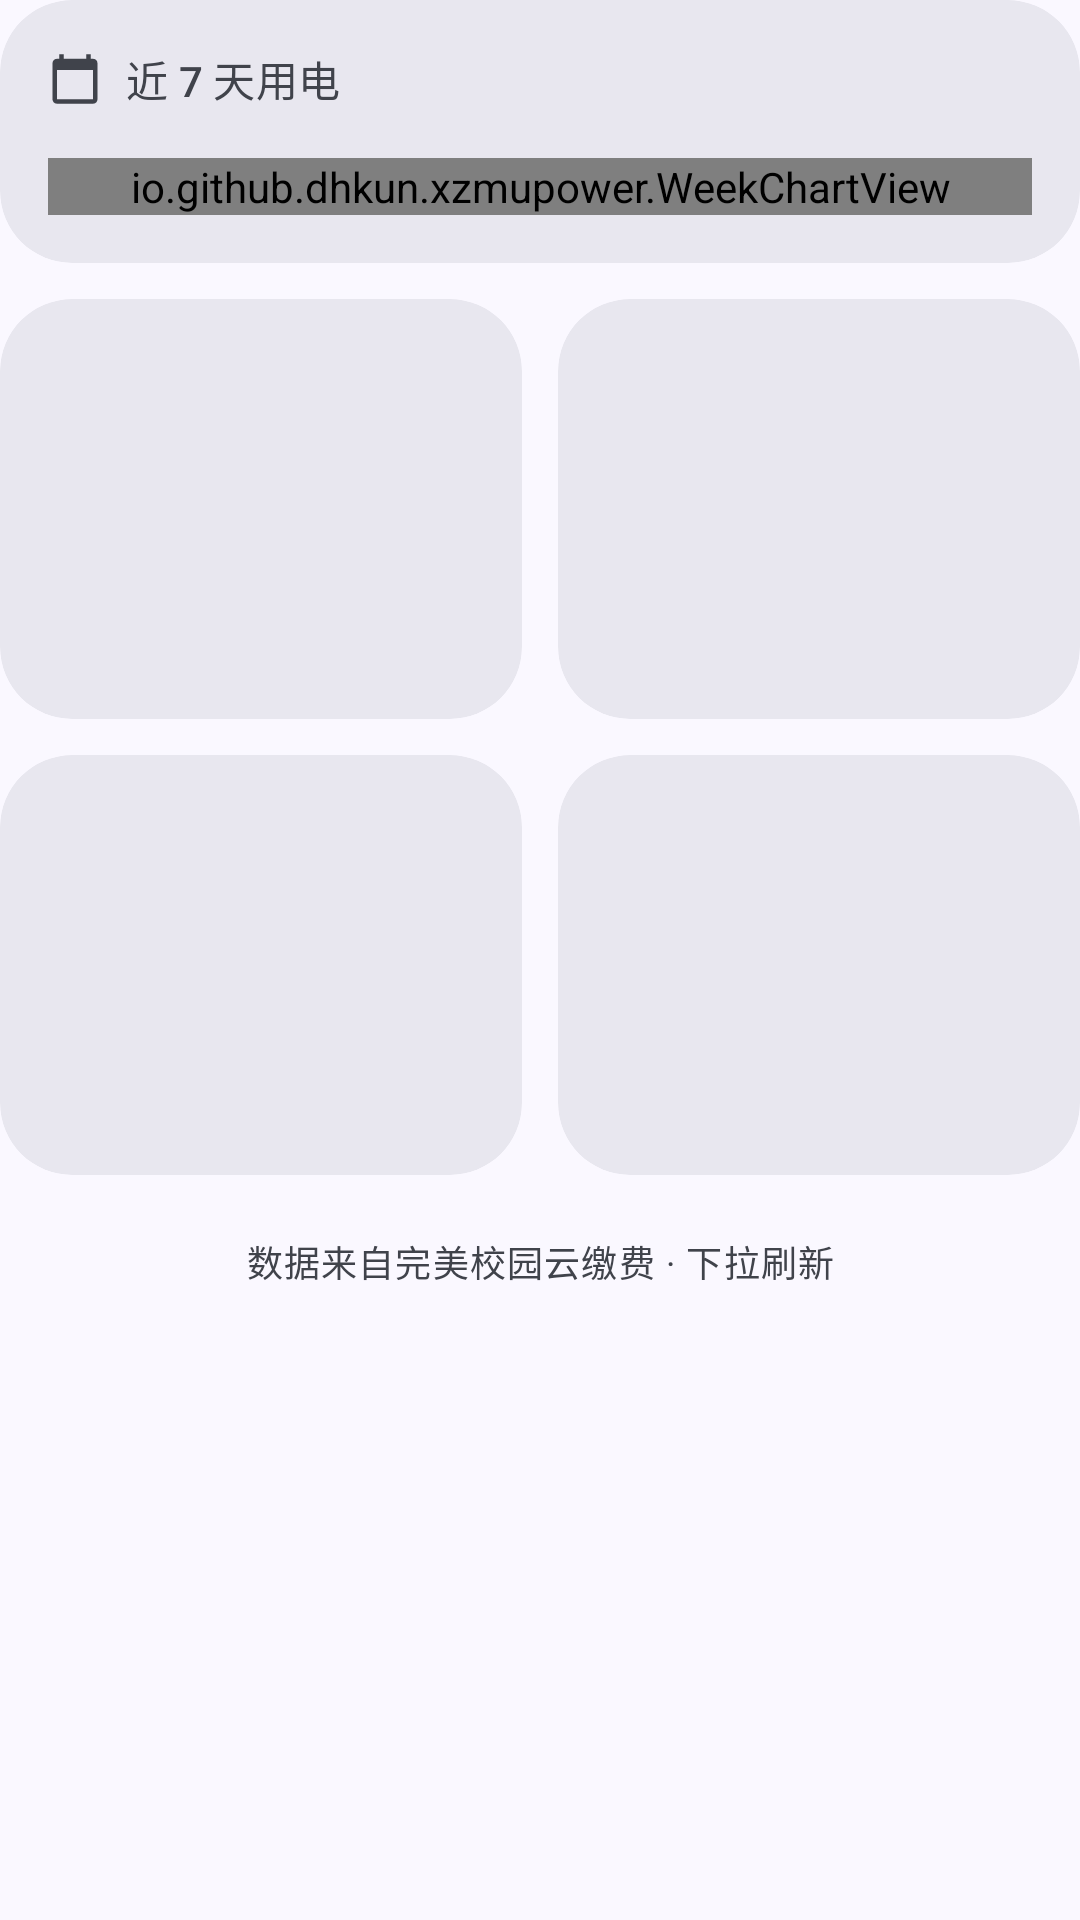

Icons on this 1080 × 1920 Android screen, each with its box as (x1, y1, x2, y2):
calendar: (52, 54, 98, 104)
